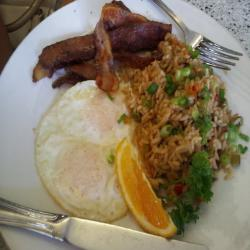omelette: (41, 91, 135, 219)
rice: (134, 50, 213, 187)
